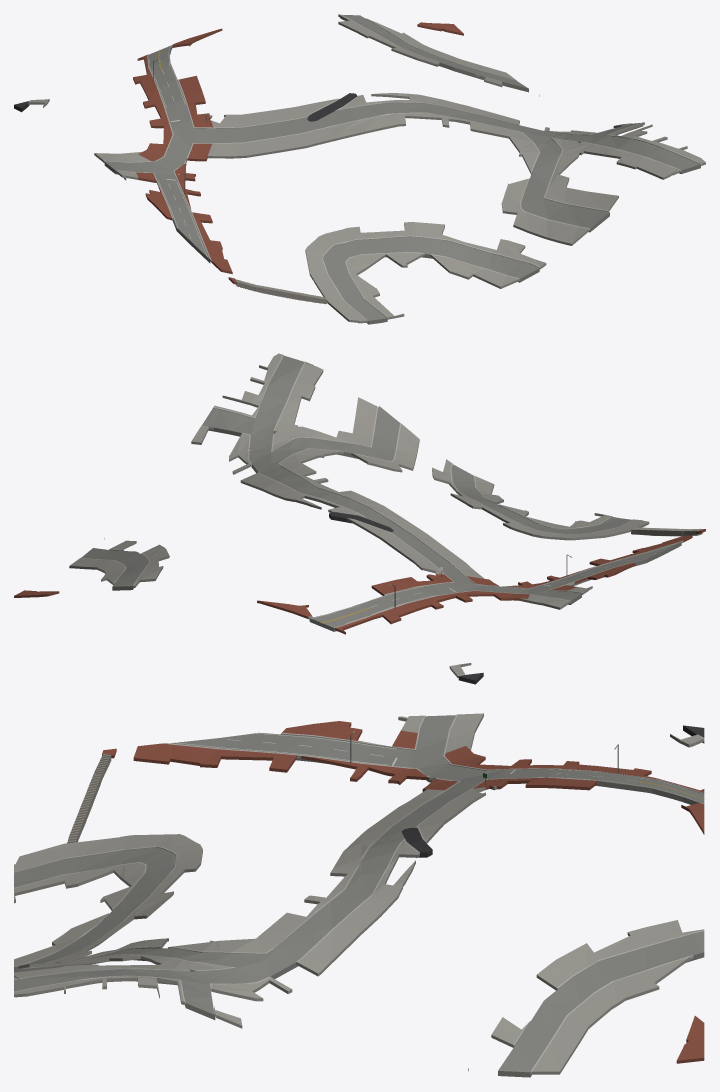
3 renders of one model, top to bottom at view 1: azimuth 30°, elevation 25°; view 2: azimuth 150°, elevation 25°; view 3: azimuth 270°, elevation 25°, orthographic. The views are drawn at different scales.
Bounding box in the file's own units: 147 × 32.67 × 146.
